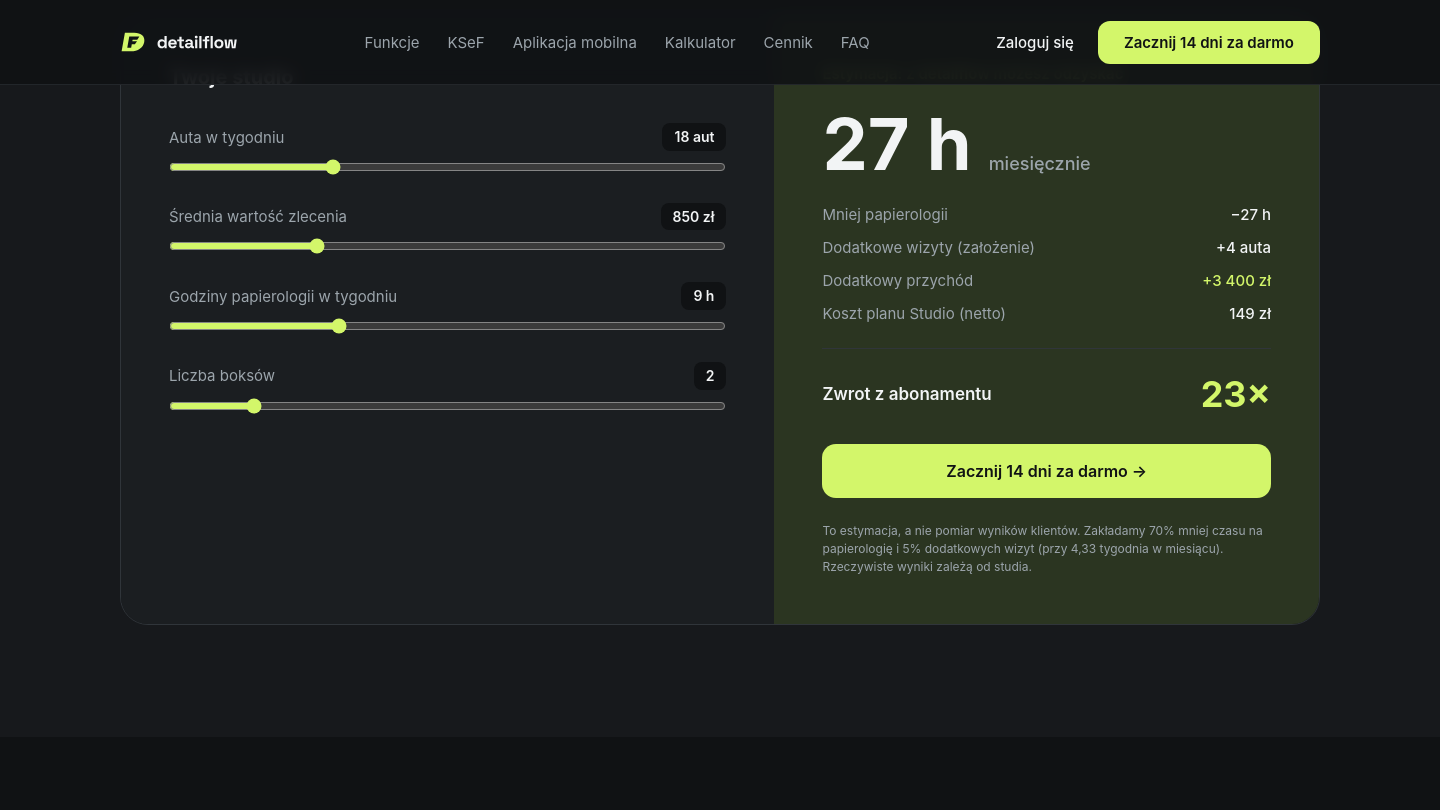
Test: labels the calculator as an estimate and updates it from the sliders
The width and height of the screenshot is (1440, 810).
(page scrolled)
Expected: the text "estymacja, a nie pomiar wyników klientów" is shown, [822,523,1149,538]
Expected: the text "23×" is shown, [1201,369,1271,420]
Step 1. Set the slider labelled "Liczba boksów" to "5" → (486, 406), box [169,402,726,410]
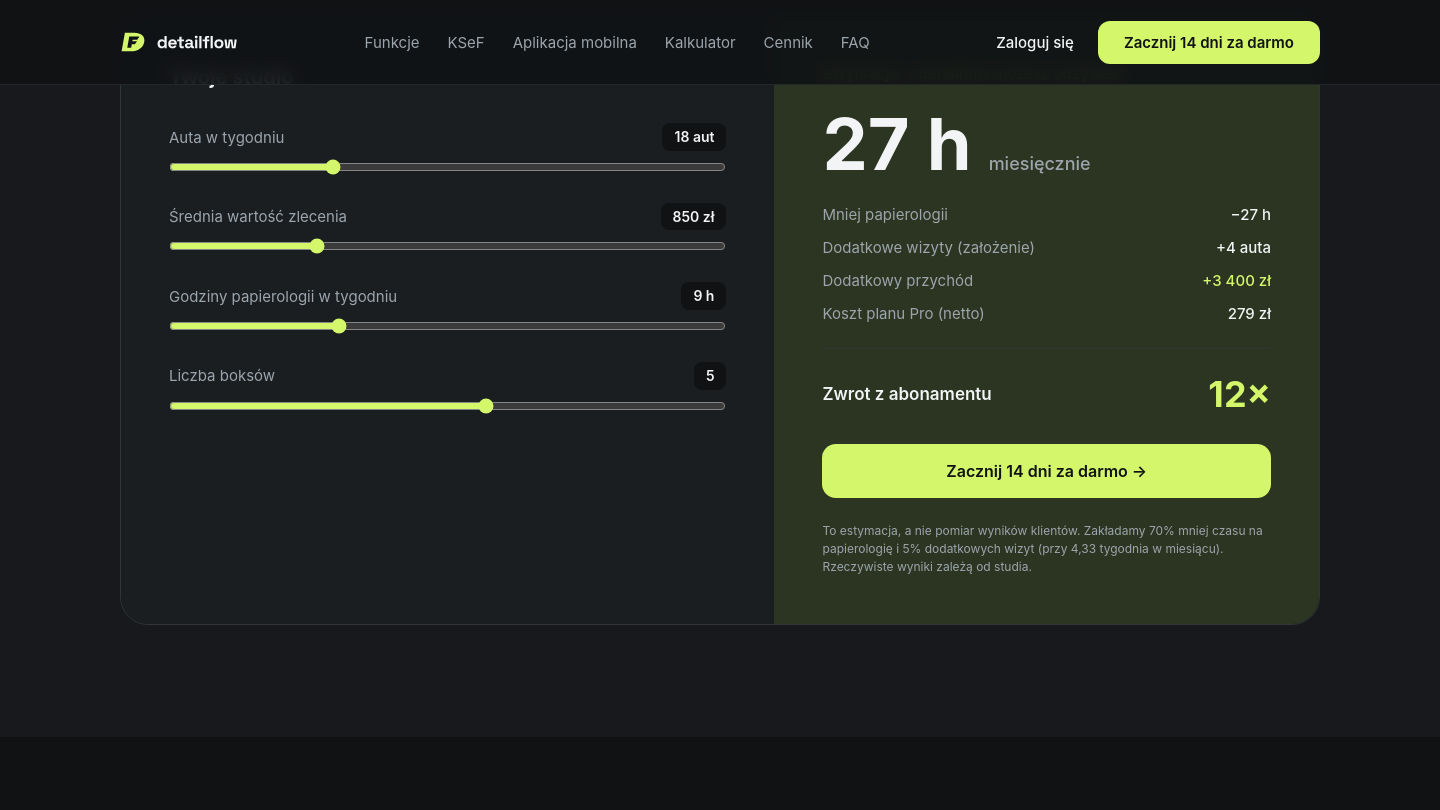
Result: the text "Koszt planu Pro (netto)" is shown at [822,303,985,324]
Result: the text "12×" is shown at [1208,369,1271,420]
